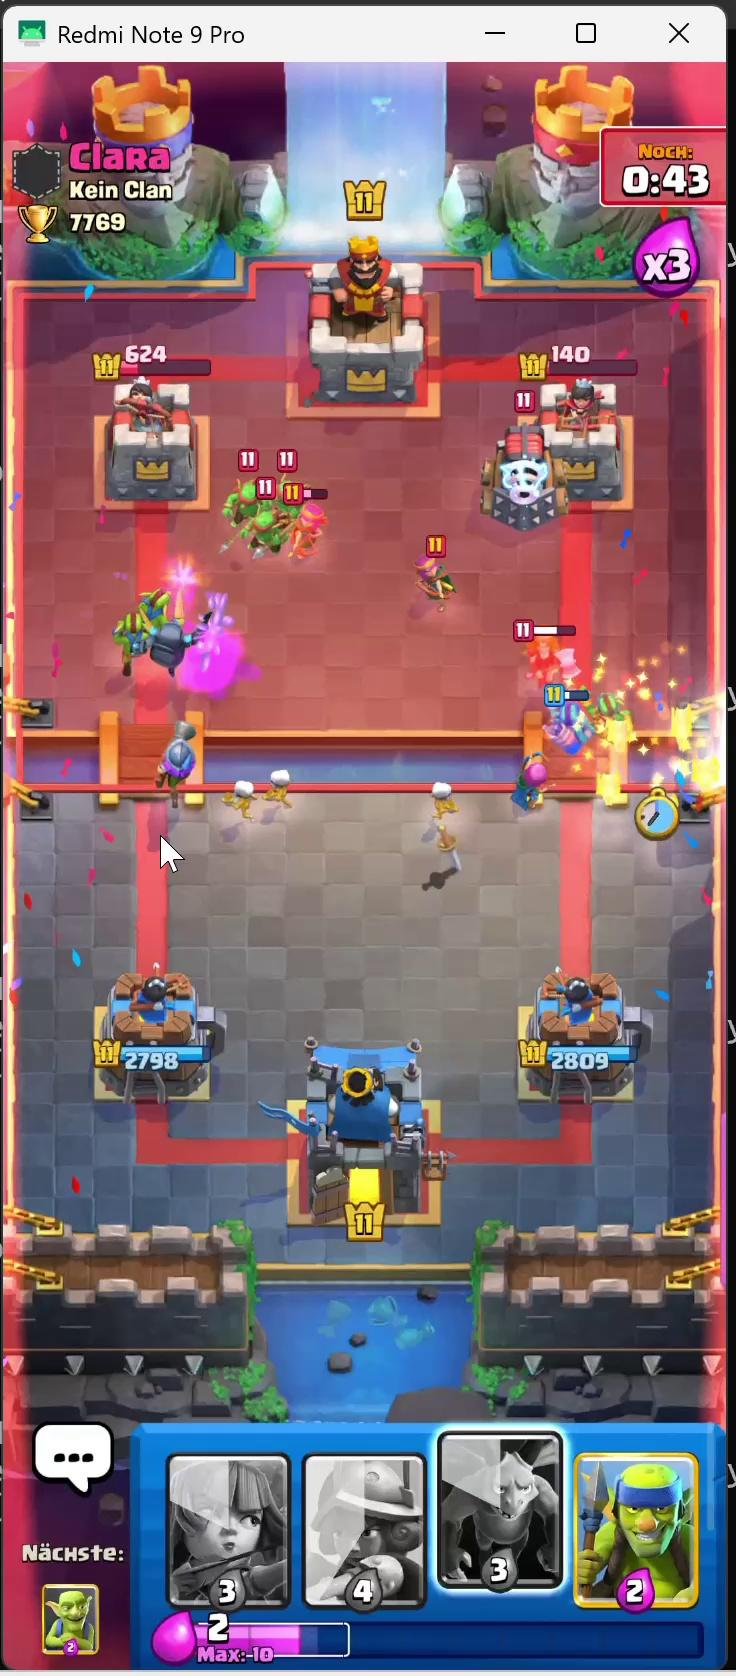archere: (518, 755, 550, 816), (416, 552, 447, 608), (291, 508, 324, 558)
bat: (648, 789, 692, 836), (601, 717, 642, 761), (664, 703, 701, 750), (691, 754, 724, 803), (595, 769, 623, 807)
gobelin: (110, 611, 148, 661), (138, 586, 175, 633)
gobelin_lances: (522, 700, 593, 751), (266, 476, 303, 527), (594, 683, 625, 740), (242, 501, 277, 550), (225, 476, 259, 523)
mini_PEKKA: (145, 624, 194, 681)
mousquetaire: (148, 719, 193, 797)
squelette: (427, 777, 456, 833), (264, 773, 295, 811), (225, 780, 254, 819)
valkyrie: (524, 618, 581, 701)
zappy: (479, 421, 559, 524)
